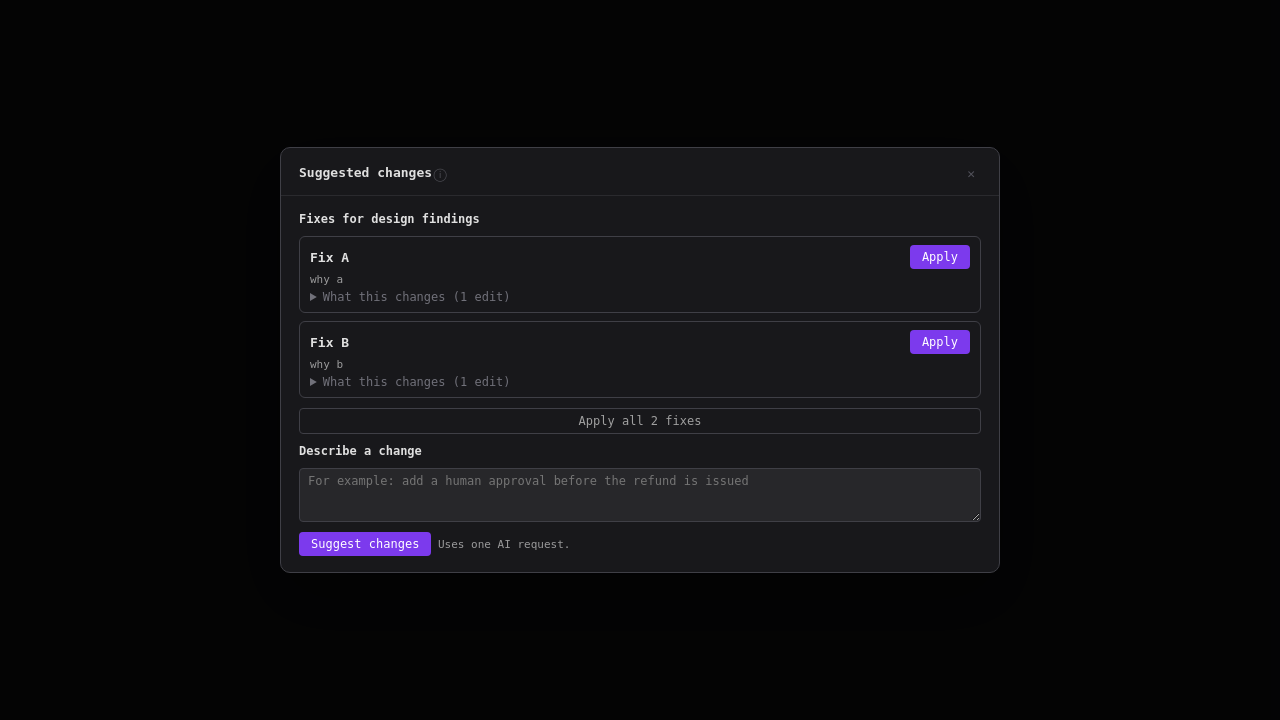
Test case: SuggestionsModal — fixes › shows a server error from applying
Click the button with aria-label "Apply: Fix A".
click(940, 257)  # box left=910, top=245, right=970, bottom=269
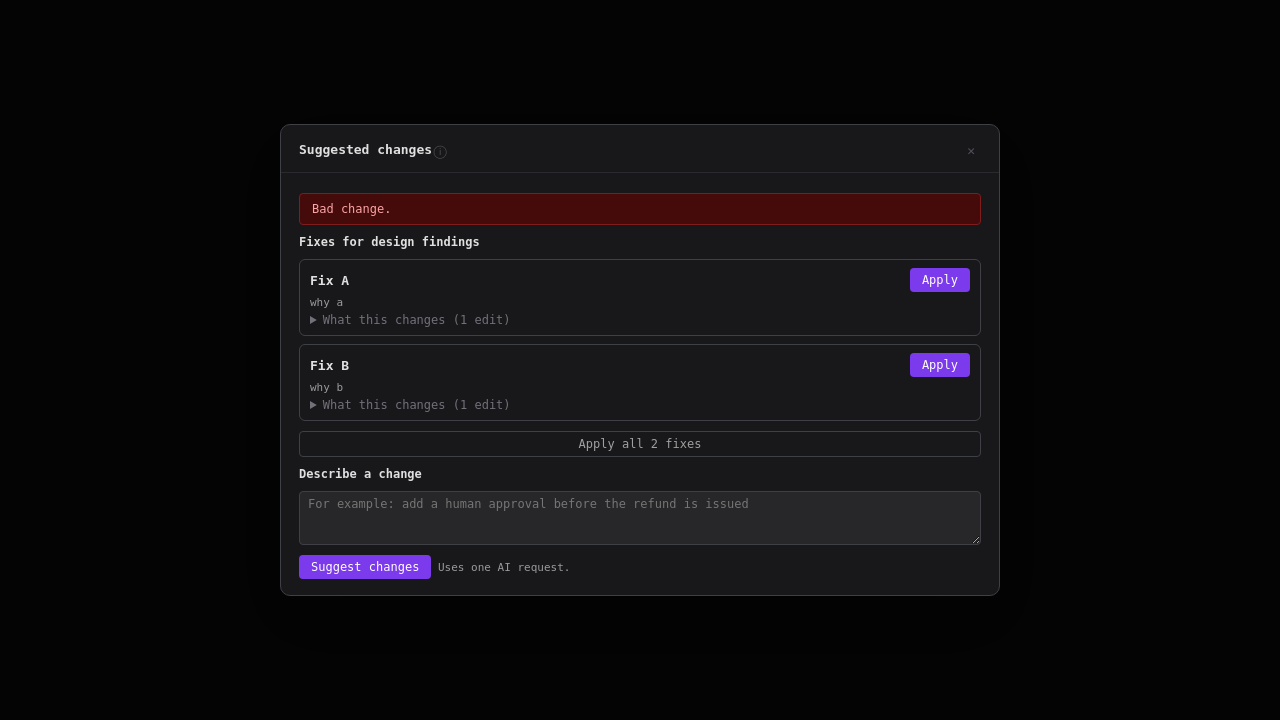
Expected: the message reads "Bad change.", left=312, top=202, right=392, bottom=216
